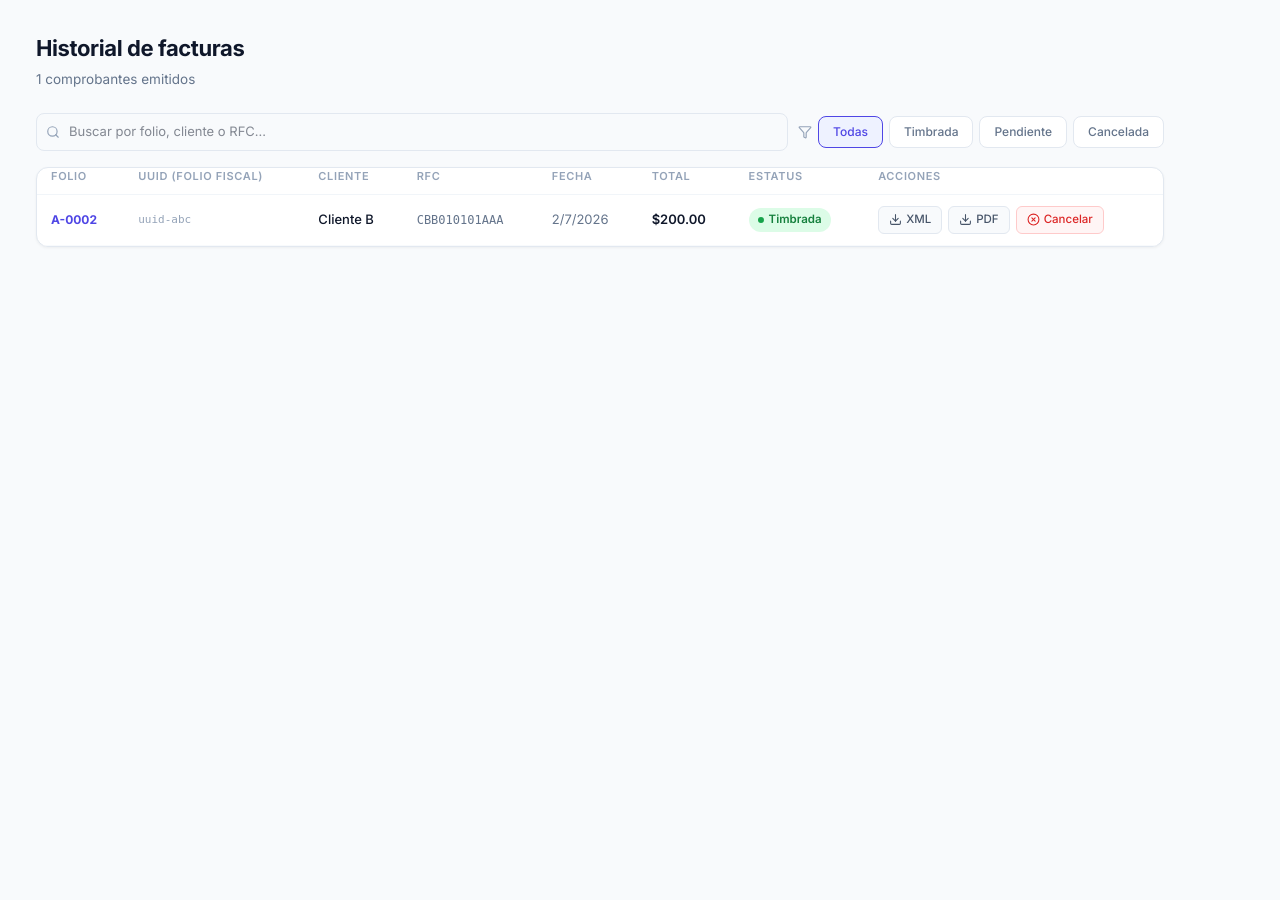
Scenario: Historial - acciones por estatus › si POST /api/facturas/:id/cancelar-timbrado falla, el modal permanece abierto y no se refresca
Click the button "Cancelar" at (1060, 220), box [1016,206,1104,234]
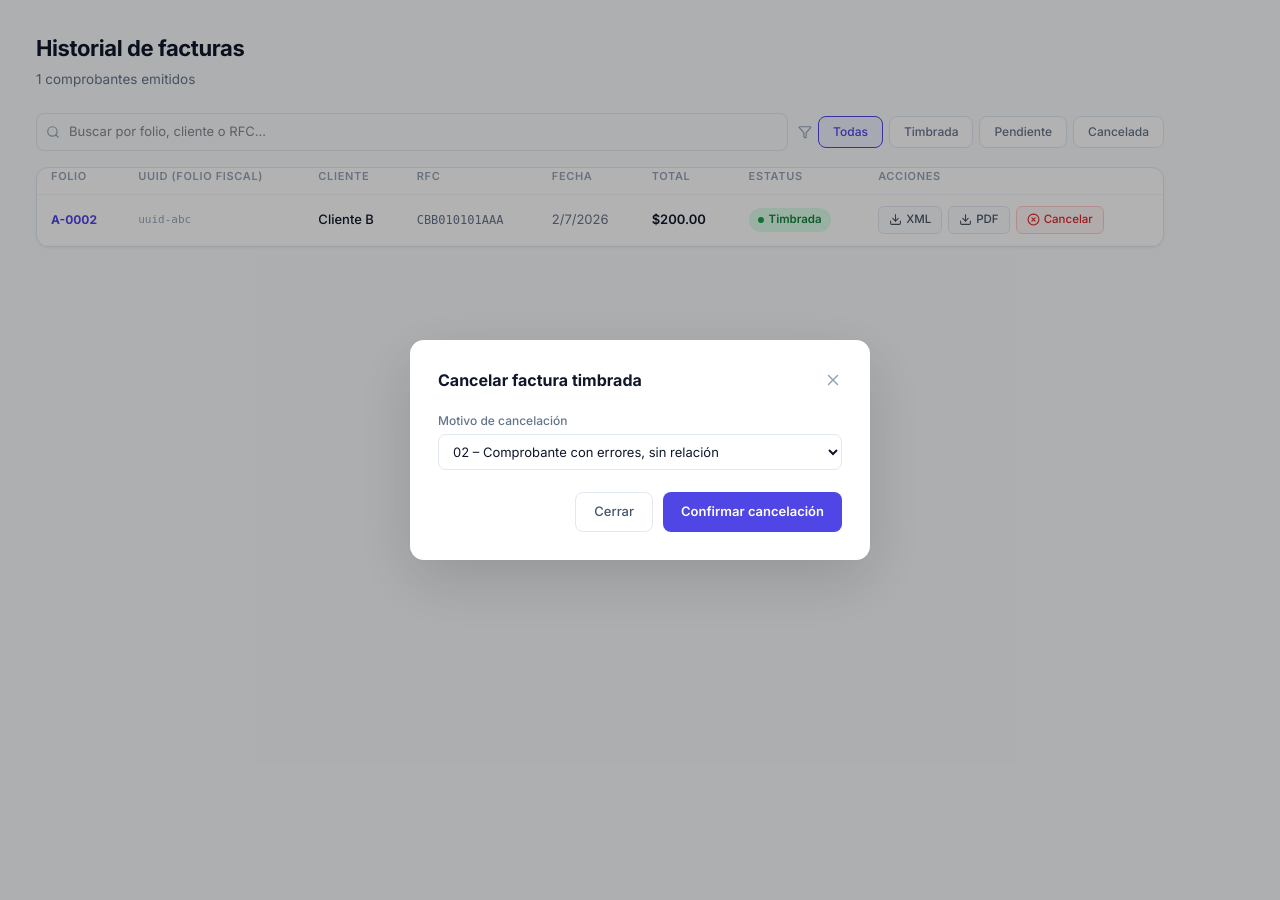
Select "02 – Comprobante con errores, sin relación" in the dropdown labelled "Motivo de cancelación" at (640, 452), box [438,434,842,470]
Click the button "Confirmar cancelación" at (752, 512), box [663,492,842,532]
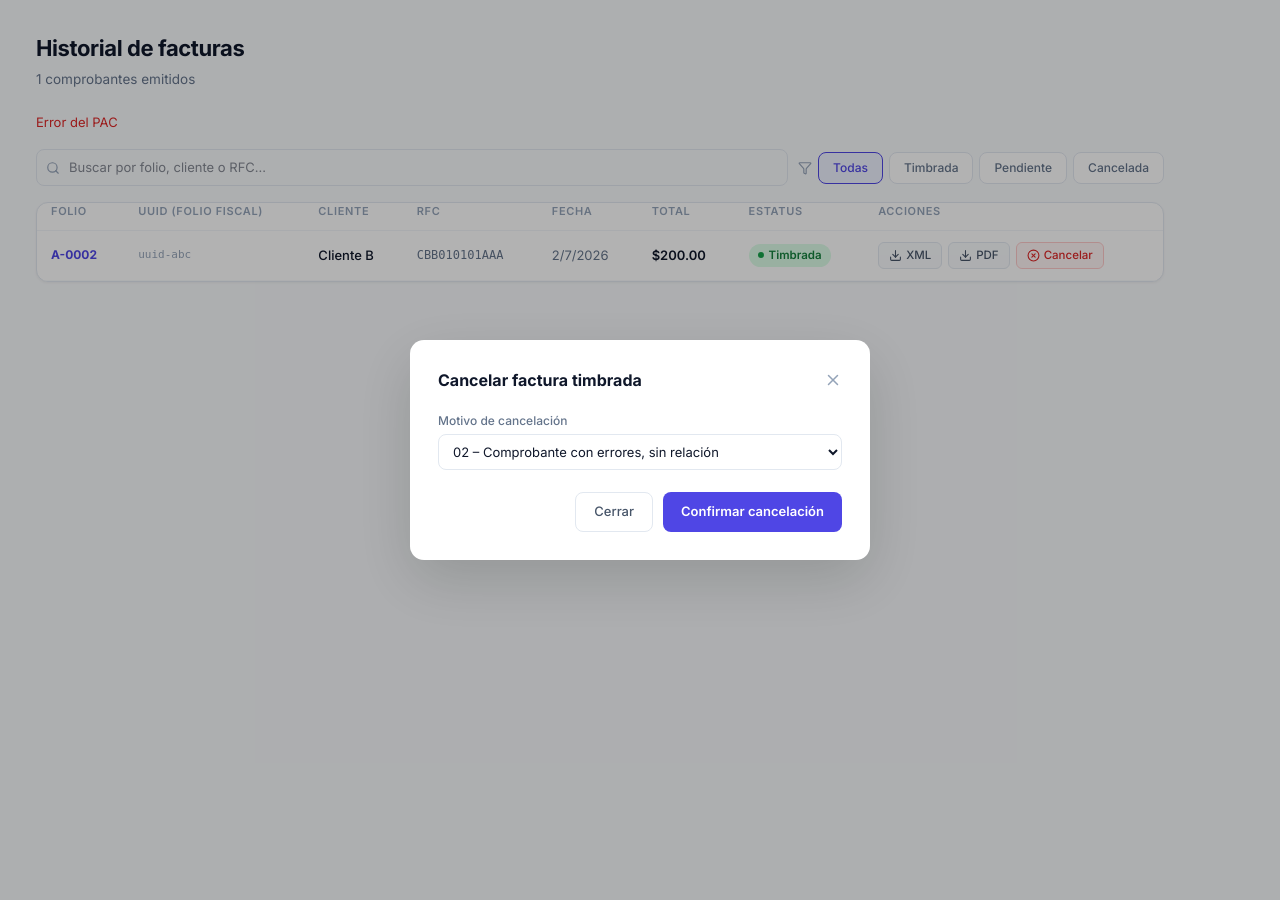
expect the heading "Cancelar factura timbrada" is shown: met, box [438,368,642,392]
expect the text "Error del PAC" is shown: met, box [36,114,118,130]
